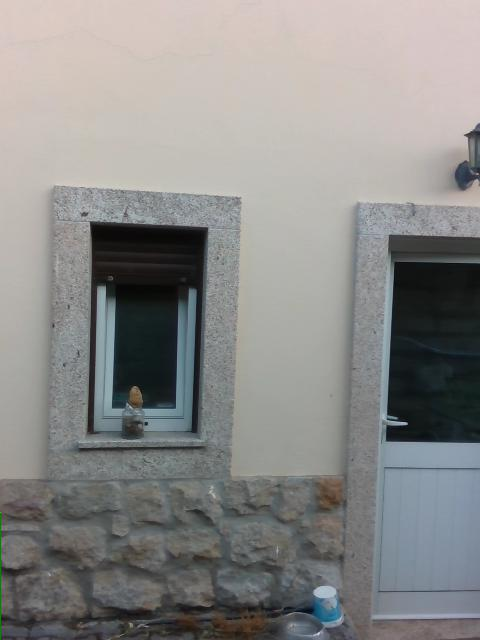door: (371, 250, 479, 624)
